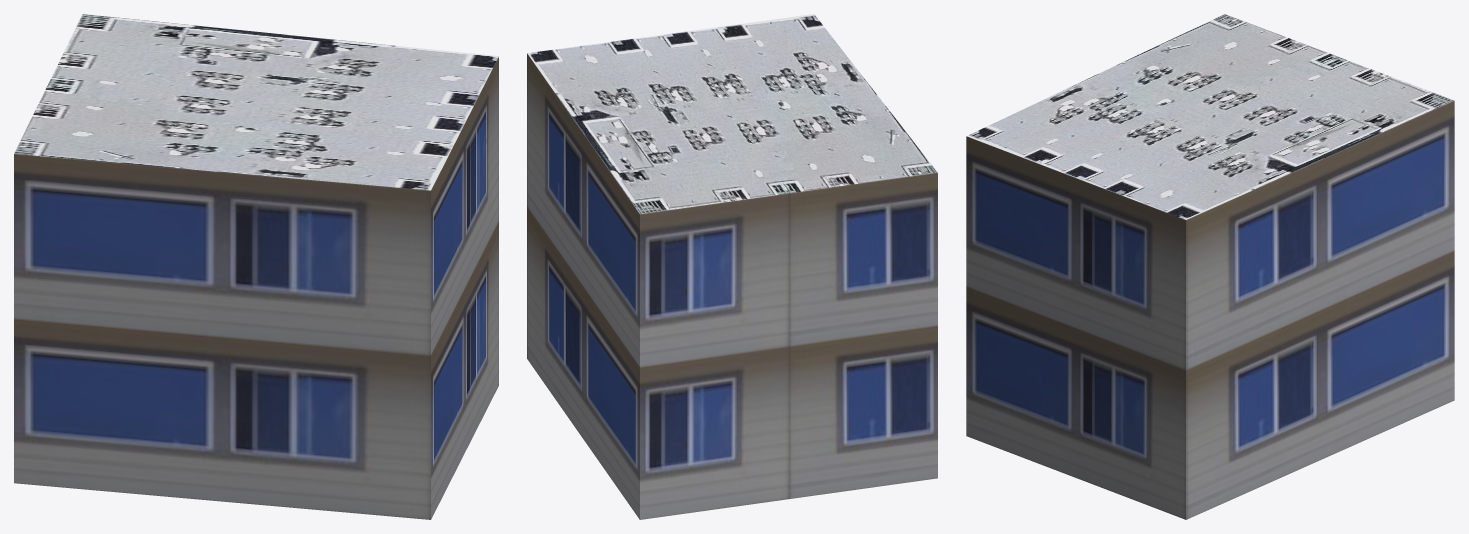
File: ResTex__1673.fbx
3 renders of one model, left to right at view 1: azimuth 30°, elevation 25°; view 2: azimuth 150°, elevation 25°; view 3: azimuth 270°, elevation 25°, orthographic. The views are drawn at different scales.
Parts seen in each view (by area): view 1: CityEngineMaterial_23_m, CityEngineMaterial_2_m; view 2: CityEngineMaterial_23_m, CityEngineMaterial_2_m; view 3: CityEngineMaterial_23_m, CityEngineMaterial_2_m.
Part boxes in pixels (x1,y1,x2,y2): CityEngineMaterial_23_m: [14, 57, 498, 519]; CityEngineMaterial_2_m: [14, 14, 498, 190]; CityEngineMaterial_23_m: [527, 53, 937, 519]; CityEngineMaterial_2_m: [527, 14, 937, 214]; CityEngineMaterial_23_m: [966, 100, 1454, 519]; CityEngineMaterial_2_m: [967, 14, 1453, 219].
Size of the model in its own units: 8.84 by 6 by 8.85.
Materials: 2 (2 with a texture image).
